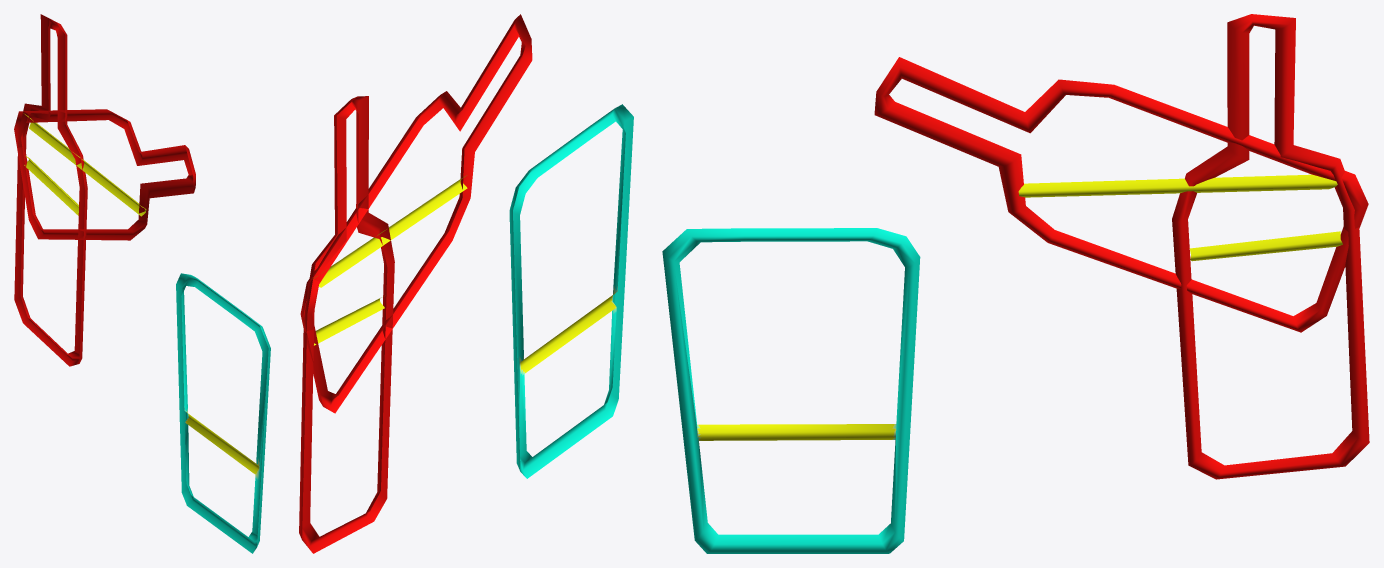
File: Neon Drink.fbx
The picture shows the model from 3 angles, left to right: view 1: azimuth 30°, elevation 25°; view 2: azimuth 150°, elevation 25°; view 3: azimuth 270°, elevation 25°; orthographic projection. The views are drawn at different scales.
Visible parts, largest first — view 1: Plane; view 2: Plane; view 3: Plane.
Boxes of the visible parts, x1,y1,x2,y2 form: Plane: [14, 14, 270, 553]; Plane: [299, 14, 633, 553]; Plane: [662, 14, 1369, 553].
Size of the model in its own units: 0.0518 by 2.8 by 3.32.
